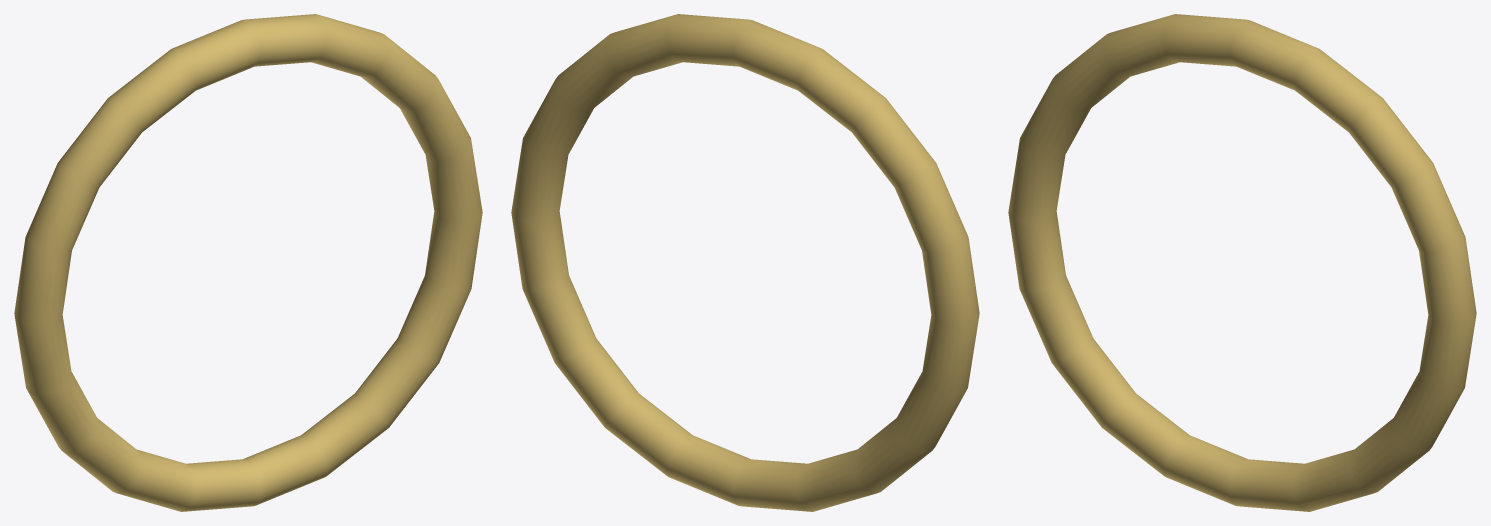
File: Ring.fbx
3 views of the same model, side by side, from view 1: azimuth 30°, elevation 25°; view 2: azimuth 150°, elevation 25°; view 3: azimuth 330°, elevation 25° (orthographic).
Visible parts, largest first — view 1: pTorus1; view 2: pTorus1; view 3: pTorus1.
Boxes of the visible parts, x1=… form: pTorus1: x1=14, y1=14, x2=482, y2=511; pTorus1: x1=511, y1=14, x2=979, y2=511; pTorus1: x1=1008, y1=14, x2=1476, y2=511.
Bounding box in the file's own units: 110 × 110 × 10.
